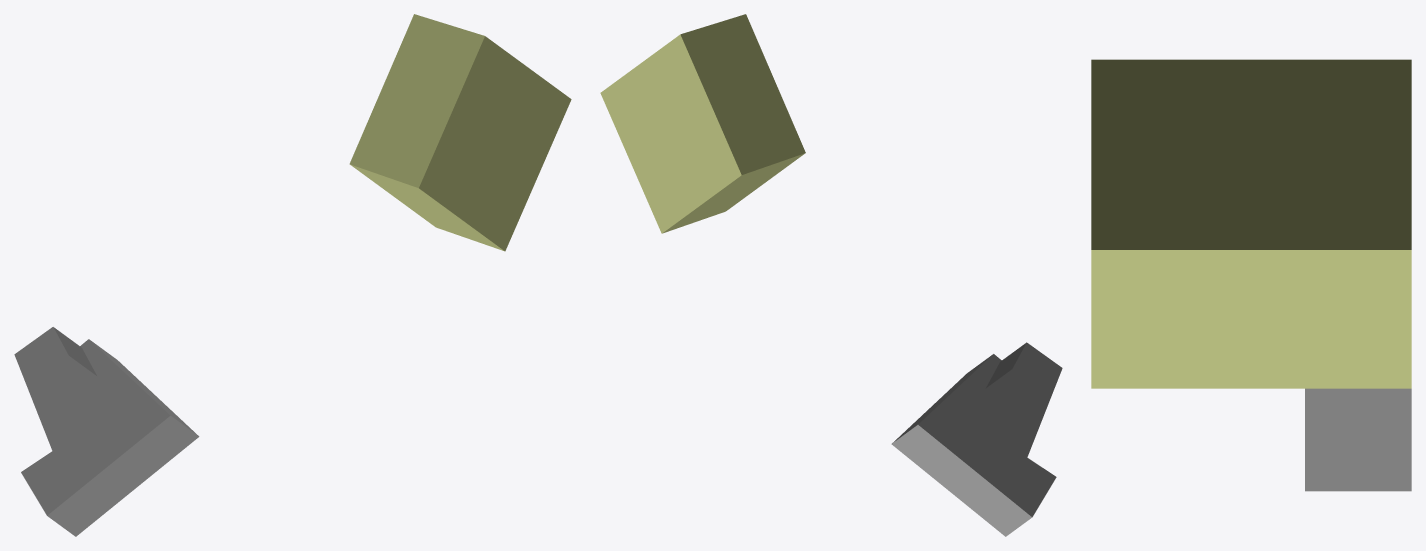
3 views of the same model, side by side, from view 1: azimuth 30°, elevation 25°; view 2: azimuth 150°, elevation 25°; view 3: azimuth 270°, elevation 25° (orthographic). The views are drawn at different scales.
Parts seen in each view (by area): view 1: 0_1_0_2_0_0_0_2_2; view 2: 0_1_0_2_0_0_0_2_2; view 3: 0_1_0_2_0_0_0_2_2.
Part boxes in pixels (x1,y1,x2,y2): 0_1_0_2_0_0_0_2_2: (14, 14, 571, 536); 0_1_0_2_0_0_0_2_2: (600, 14, 1062, 536); 0_1_0_2_0_0_0_2_2: (1091, 59, 1411, 491).
Size of the model in its own units: 28.29 by 23.67 by 9.
